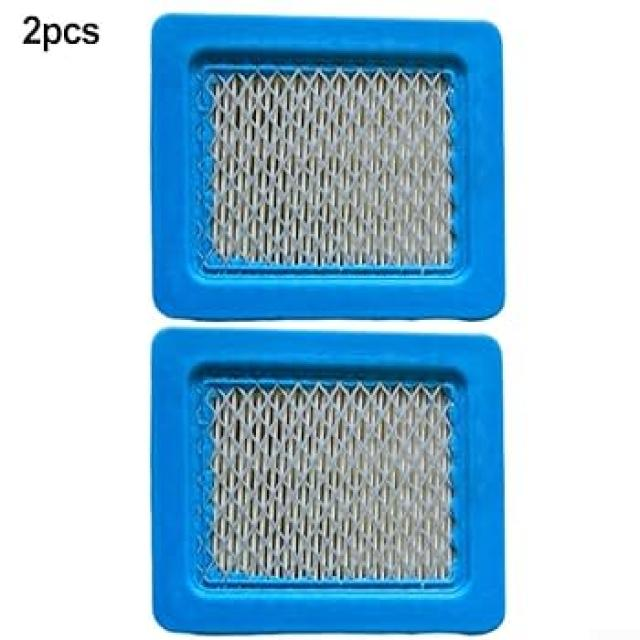air_filter: (141, 1, 519, 324), (142, 330, 518, 637)
